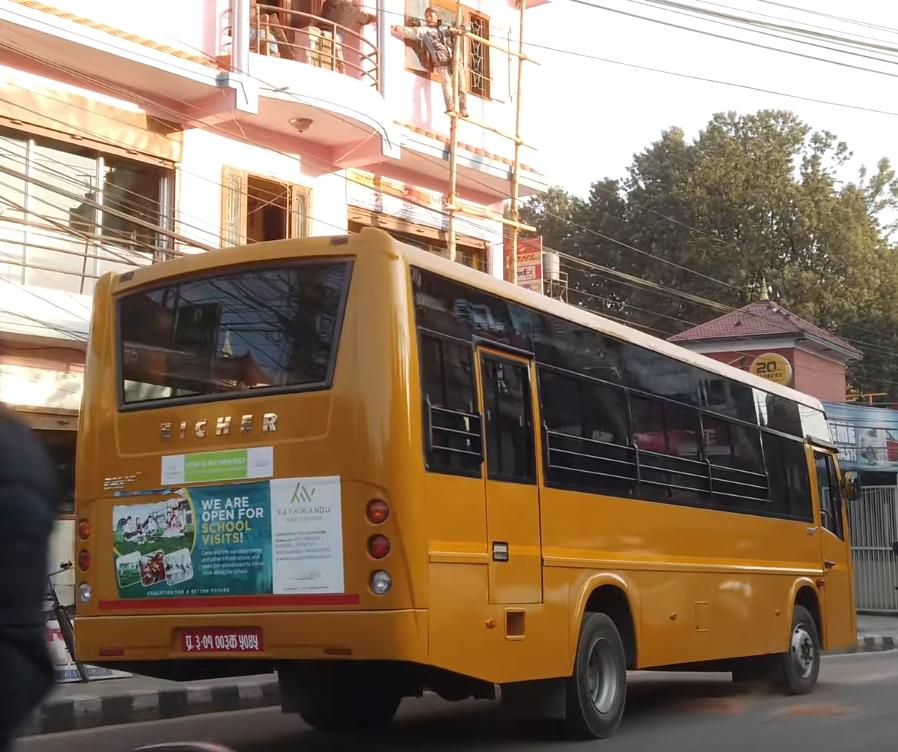school_bus: (64, 231, 868, 752)
